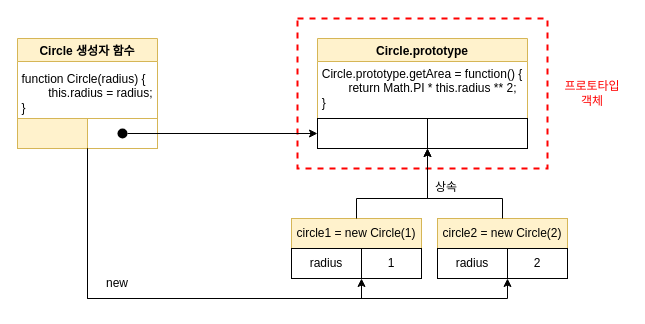
This 645x324 diagram has some shape labels left out. The centre of each missing label's shape, as x and y in pixels:
"<function>" belongs at point (477, 133).
"getArea" belongs at point (372, 133).
"prototype" belongs at point (52, 133).
